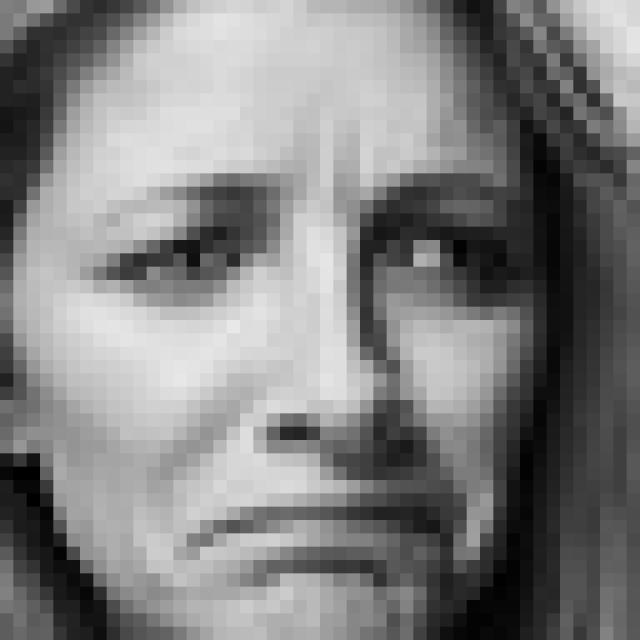sad: (83, 121, 526, 588)
